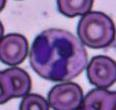N: (31, 29, 87, 81)
